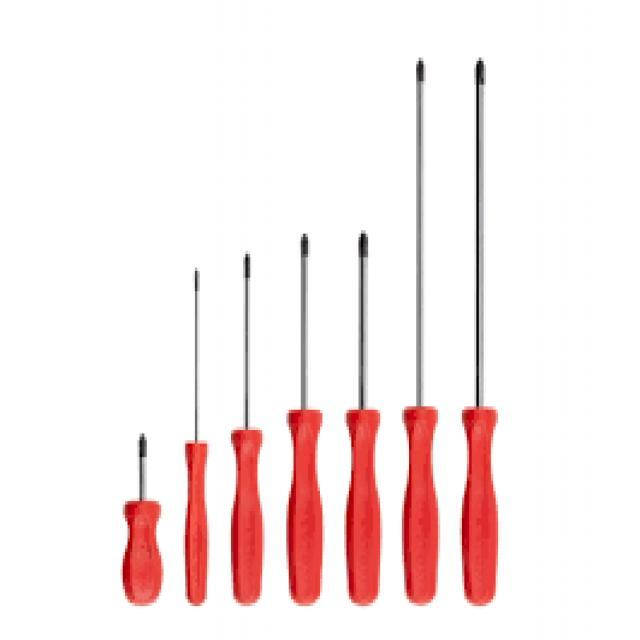screwdriver: (456, 48, 504, 606), (398, 52, 444, 618), (282, 222, 328, 608), (342, 217, 382, 613), (225, 245, 266, 608), (182, 249, 210, 608), (118, 428, 168, 608)
